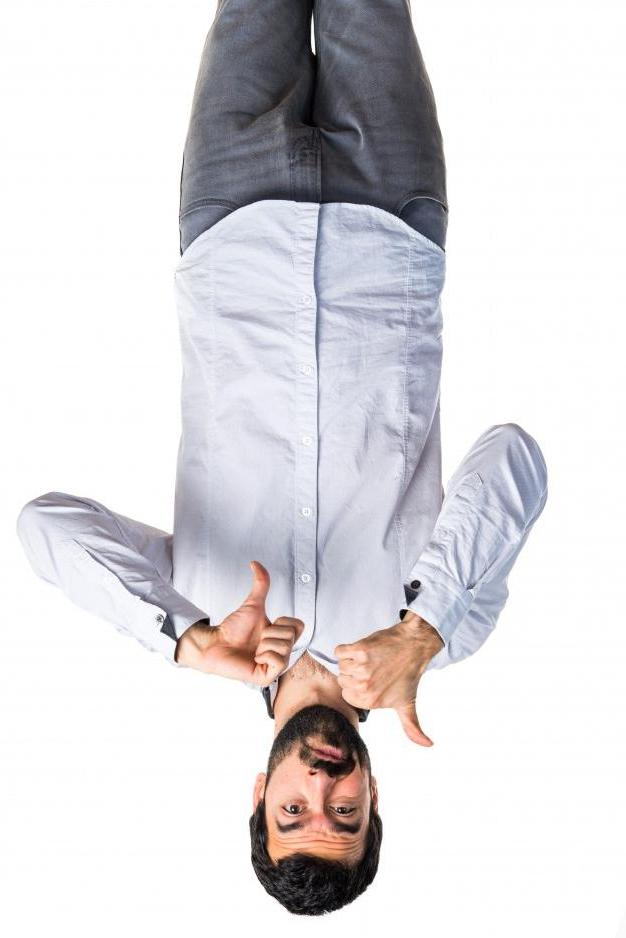thumbsdown: (334, 643, 434, 748)
